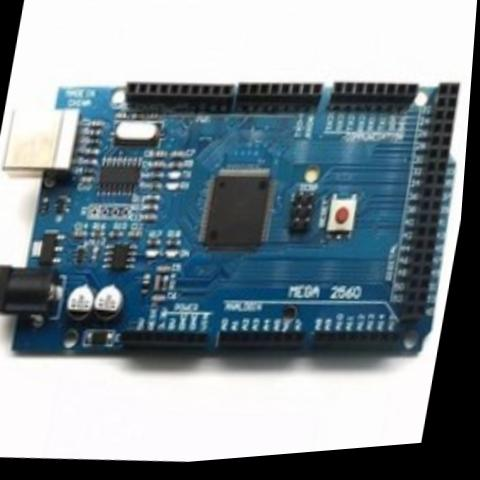Arduino-Mega: (0, 21, 477, 427)
